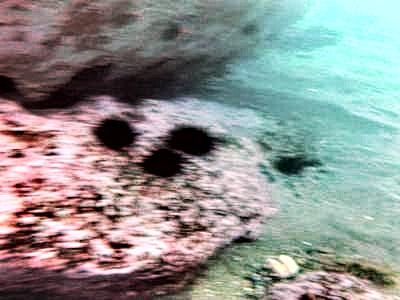urchin: (168, 124, 216, 153), (95, 119, 137, 149), (142, 148, 184, 177)
